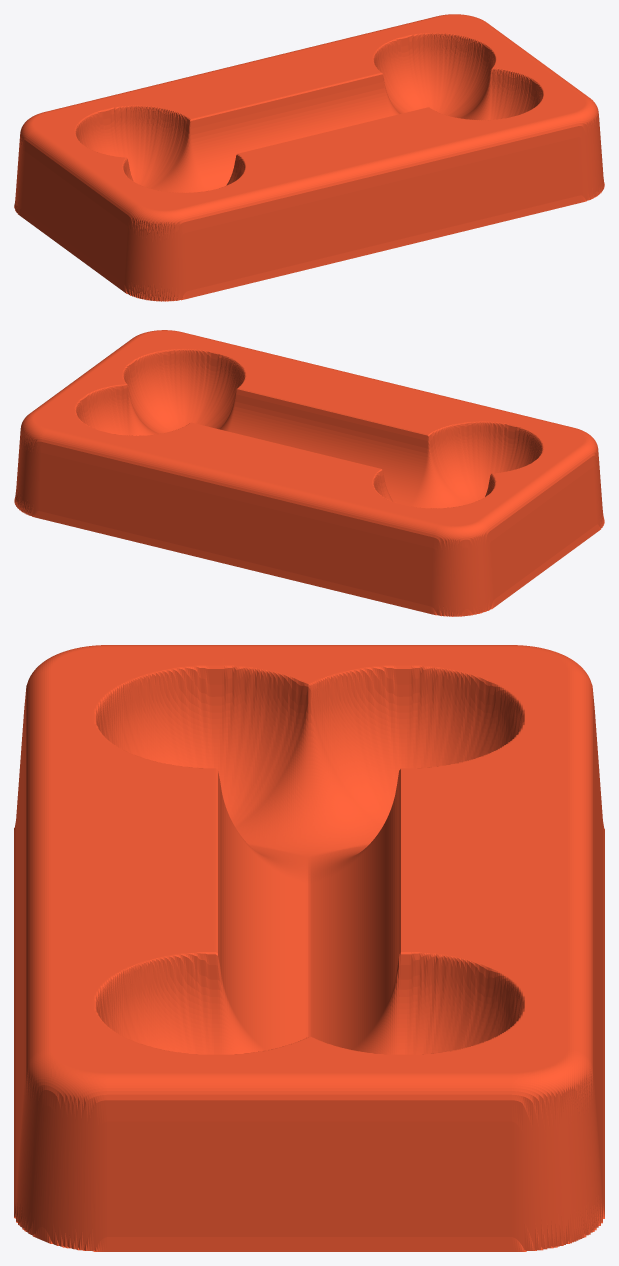
File: mold.glb
3 renders of one model, top to bottom at view 1: azimuth 30°, elevation 25°; view 2: azimuth 150°, elevation 25°; view 3: azimuth 270°, elevation 25°, orthographic. The views are drawn at different scales.
Parts seen in each view (by area): view 1: geometry_0; view 2: geometry_0; view 3: geometry_0.
Part boxes in pixels (<box>): geometry_0: <box>14,14,604,301</box>; geometry_0: <box>14,330,604,616</box>; geometry_0: <box>14,645,604,1251</box>.
Size of the model in its own units: 0.105 by 0.0175 by 0.0574.
